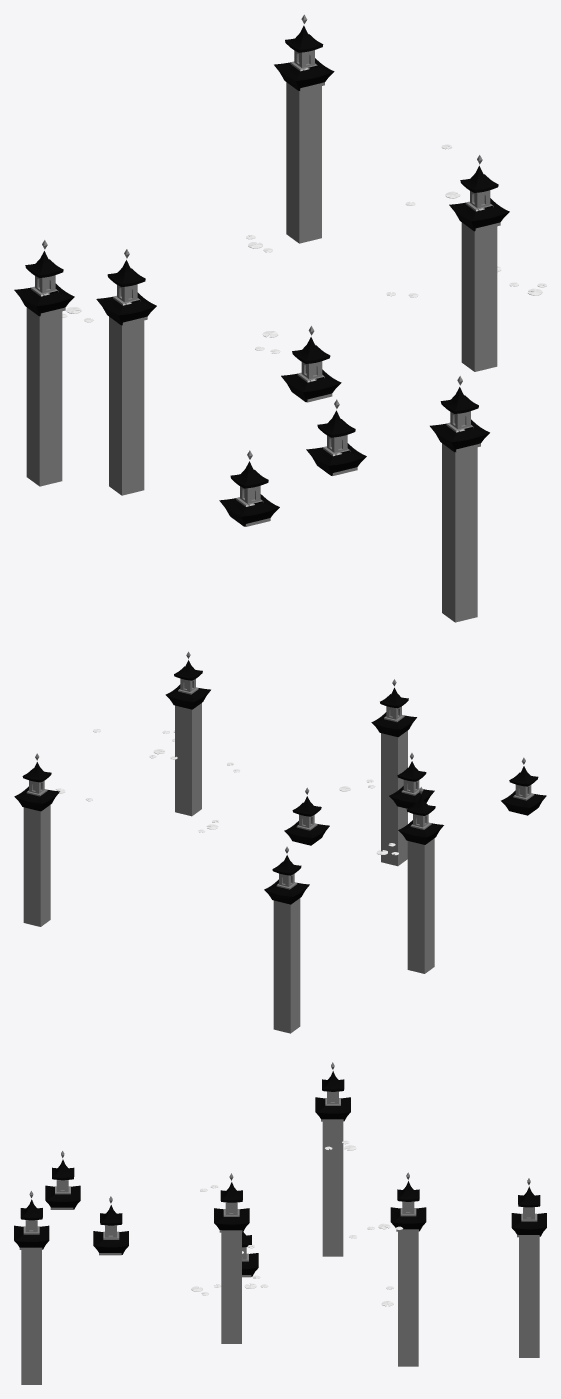
Rendered from Phase 1 BG Art.fbx.
3 views of the same model, one above another, from view 1: azimuth 30°, elevation 25°; view 2: azimuth 150°, elevation 25°; view 3: azimuth 270°, elevation 25° (orthographic). The views are drawn at different scales.
Visible parts, largest first — view 1: Rooftop_Rescue_Flag.001 (3) (×5), Rooftop_Rescue_Flag.001 (2) (×5), Rooftop_Rescue_Flag.001 (4) (×2), Rooftop_Rescue_Flag.001 (1); view 2: Rooftop_Rescue_Flag.001 (3) (×5), Rooftop_Rescue_Flag.001 (2) (×5), Rooftop_Rescue_Flag.001 (4) (×2), Rooftop_Rescue_Flag.001 (1); view 3: Rooftop_Rescue_Flag.001 (3) (×5), Rooftop_Rescue_Flag.001 (2) (×5), Rooftop_Rescue_Flag.001 (4) (×2), Rooftop_Rescue_Flag.001 (1).
Boxes of the visible parts, x1,y1,x2,y2 form: Rooftop_Rescue_Flag.001 (3) (×5): (26, 222, 497, 622); Rooftop_Rescue_Flag.001 (2) (×5): (14, 155, 509, 526); Rooftop_Rescue_Flag.001 (4) (×2): (281, 82, 341, 402); Rooftop_Rescue_Flag.001 (1): (274, 14, 334, 91); Rooftop_Rescue_Flag.001 (3) (×5): (175, 703, 434, 1033); Rooftop_Rescue_Flag.001 (2) (×5): (165, 651, 546, 904); Rooftop_Rescue_Flag.001 (4) (×2): (23, 787, 329, 926); Rooftop_Rescue_Flag.001 (1): (14, 753, 59, 811); Rooftop_Rescue_Flag.001 (3) (×5): (21, 1121, 418, 1384); Rooftop_Rescue_Flag.001 (2) (×5): (14, 1062, 426, 1249); Rooftop_Rescue_Flag.001 (4) (×2): (242, 1232, 539, 1357); Rooftop_Rescue_Flag.001 (1): (511, 1178, 546, 1237).
Size of the model in its own units: 41.56 by 30.22 by 51.64.
Materials: 3 (1 with a texture image).
